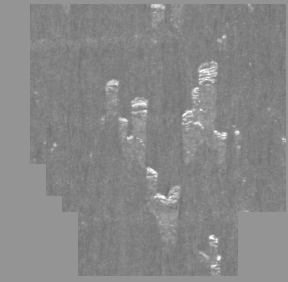oxl: (35, 10, 253, 272)
